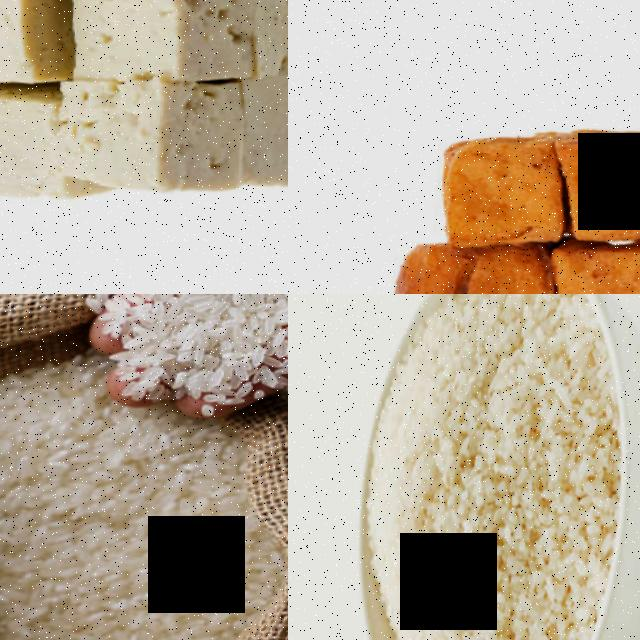tofu: (36, 65, 288, 212), (59, 0, 264, 95), (431, 123, 571, 258), (547, 123, 640, 251), (387, 239, 560, 294), (0, 78, 57, 208), (0, 0, 67, 90), (541, 237, 640, 294)
white rice: (353, 294, 623, 640), (0, 400, 240, 640), (133, 294, 288, 396)
